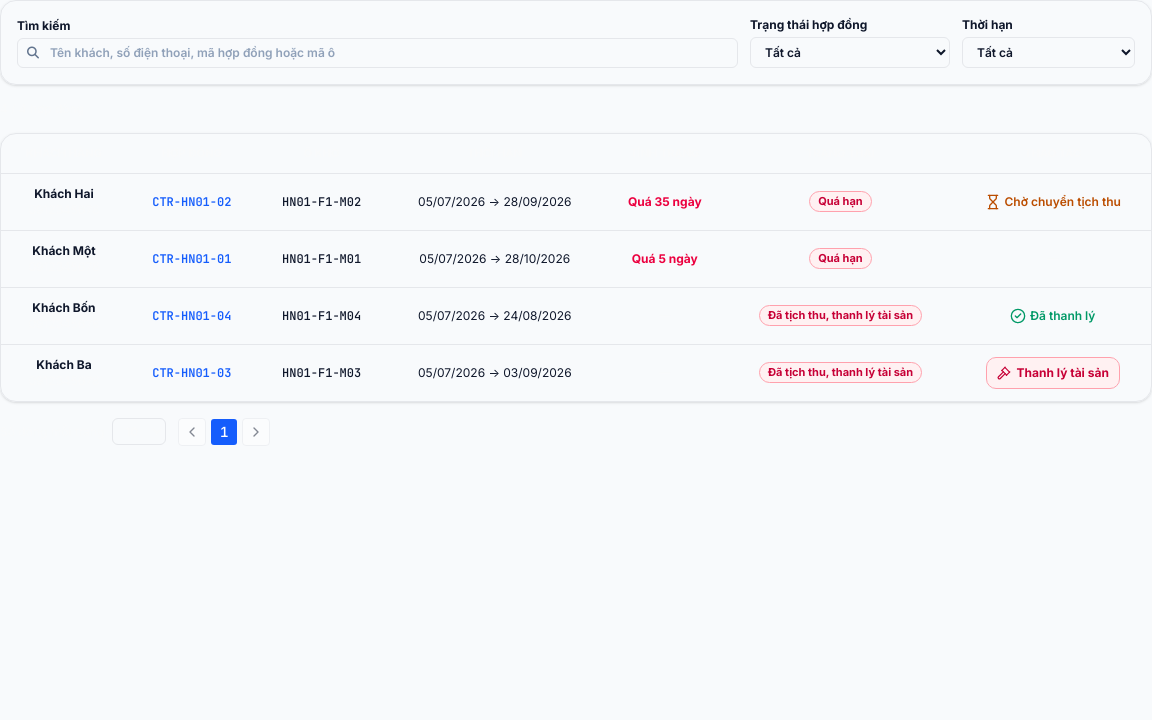
Test case: Quản lí hợp đồng: thanh lý tài sản quá hạn › dán chữ không phải link → báo ngay, không cho xác nhận
Click the button "Thanh lý tài sản" at (1053, 373), box [986,357,1120,389]
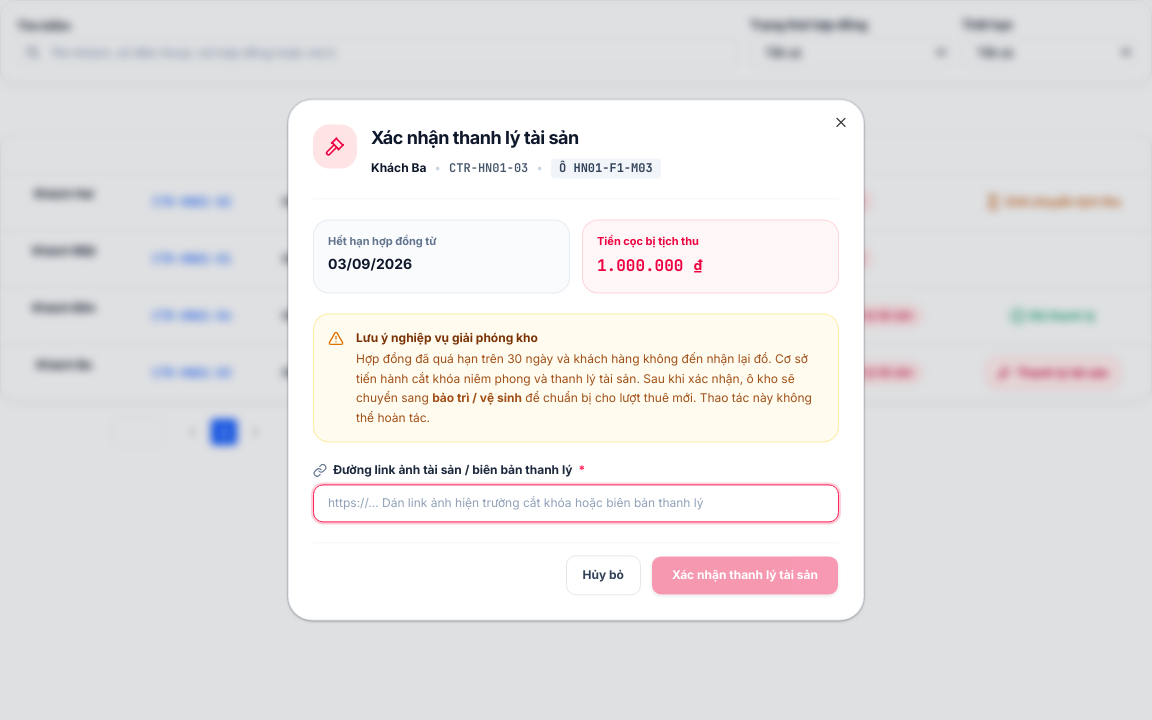
Type "da niem phong roi" into the field labelled "Đường link ảnh tài sản / biên bản thanh lý *" at (576, 504), box [313,485,839,523]
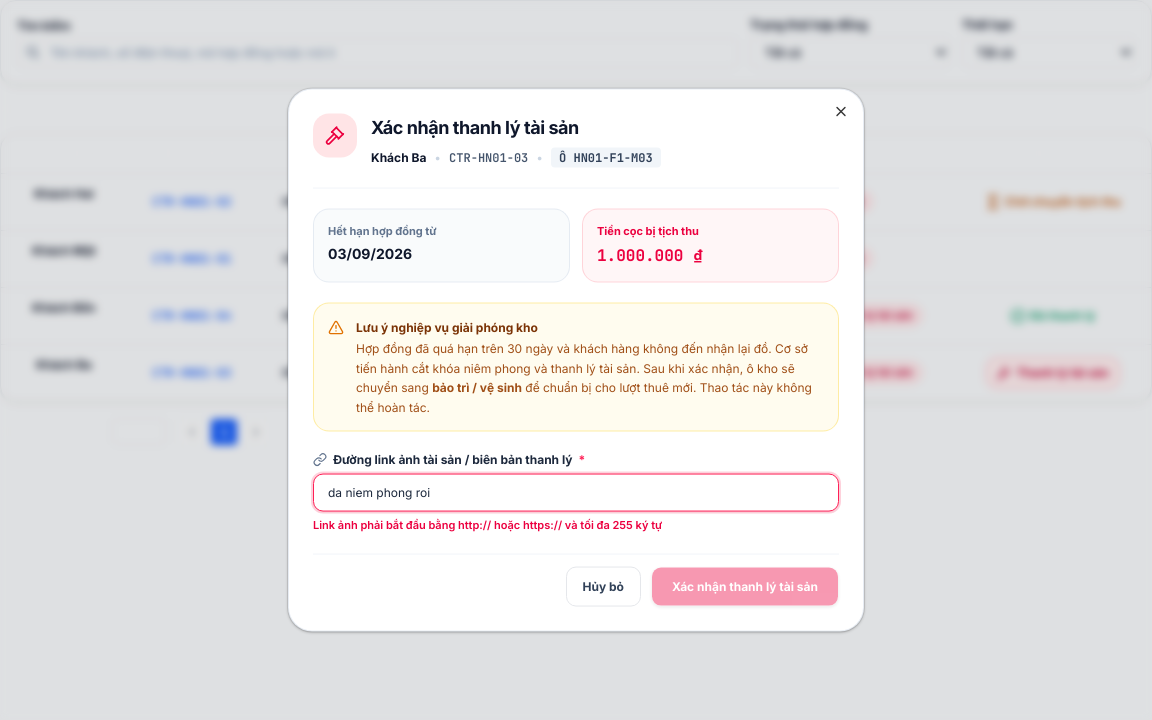
Expected: the button "Xác nhận thanh lý tài sản" is disabled, [651,566,839,606]
Expected: the text "phải bắt đầu bằng http" is shown, [313,518,662,532]
